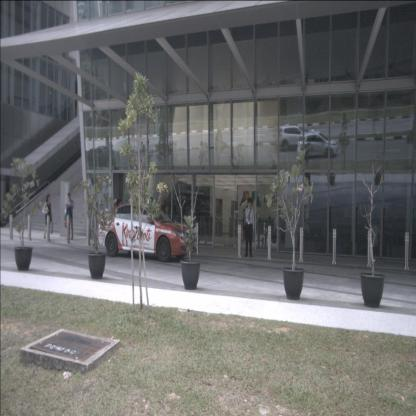human-pedestrian-adult: (244, 198, 255, 258), (42, 194, 53, 241), (64, 192, 74, 240)
vehicle-car: (97, 202, 192, 262), (296, 130, 338, 160), (278, 124, 312, 152)
